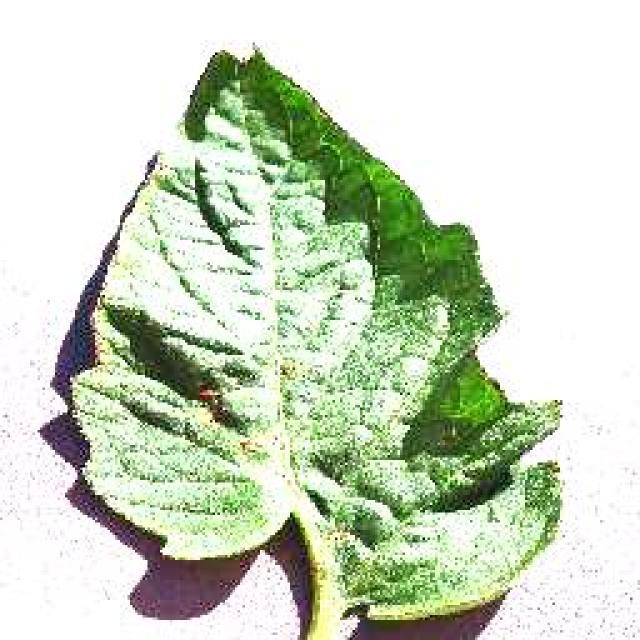Tomato___Target_Spot: (70, 52, 558, 638)
